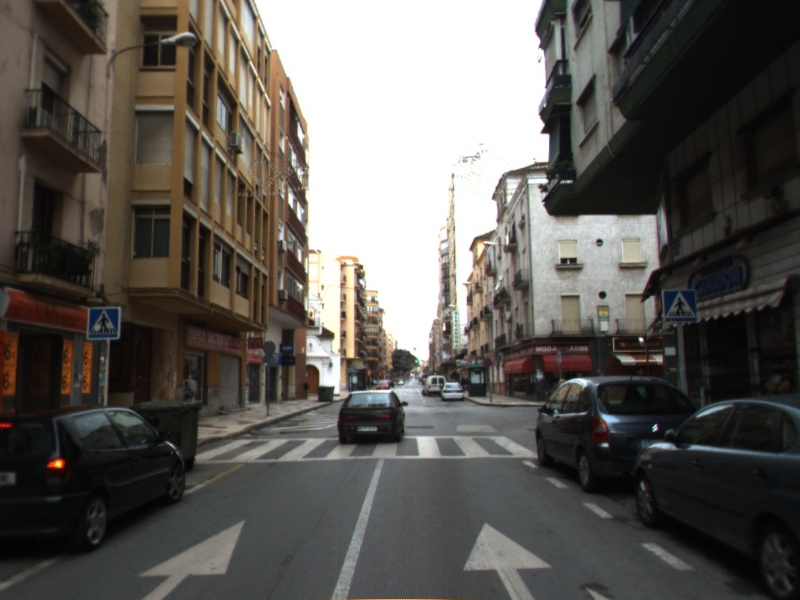STRAIGHT: (137, 518, 247, 600), (461, 521, 554, 600)
